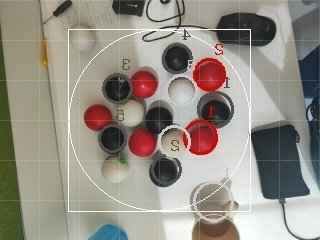Pelota blanca: (282, 193, 320, 240), (189, 181, 237, 213), (191, 215, 241, 240), (115, 99, 147, 129), (168, 75, 197, 108), (145, 0, 187, 22), (100, 155, 131, 184), (160, 125, 185, 156)
Pelota negra: (196, 91, 235, 129), (150, 155, 183, 189), (144, 99, 175, 135), (161, 41, 193, 75), (101, 73, 133, 102), (98, 123, 127, 154), (88, 223, 131, 240), (54, 0, 73, 16)
Pelota roja: (181, 117, 219, 156), (191, 57, 227, 93), (130, 65, 161, 99), (128, 127, 157, 159), (84, 103, 113, 132)
